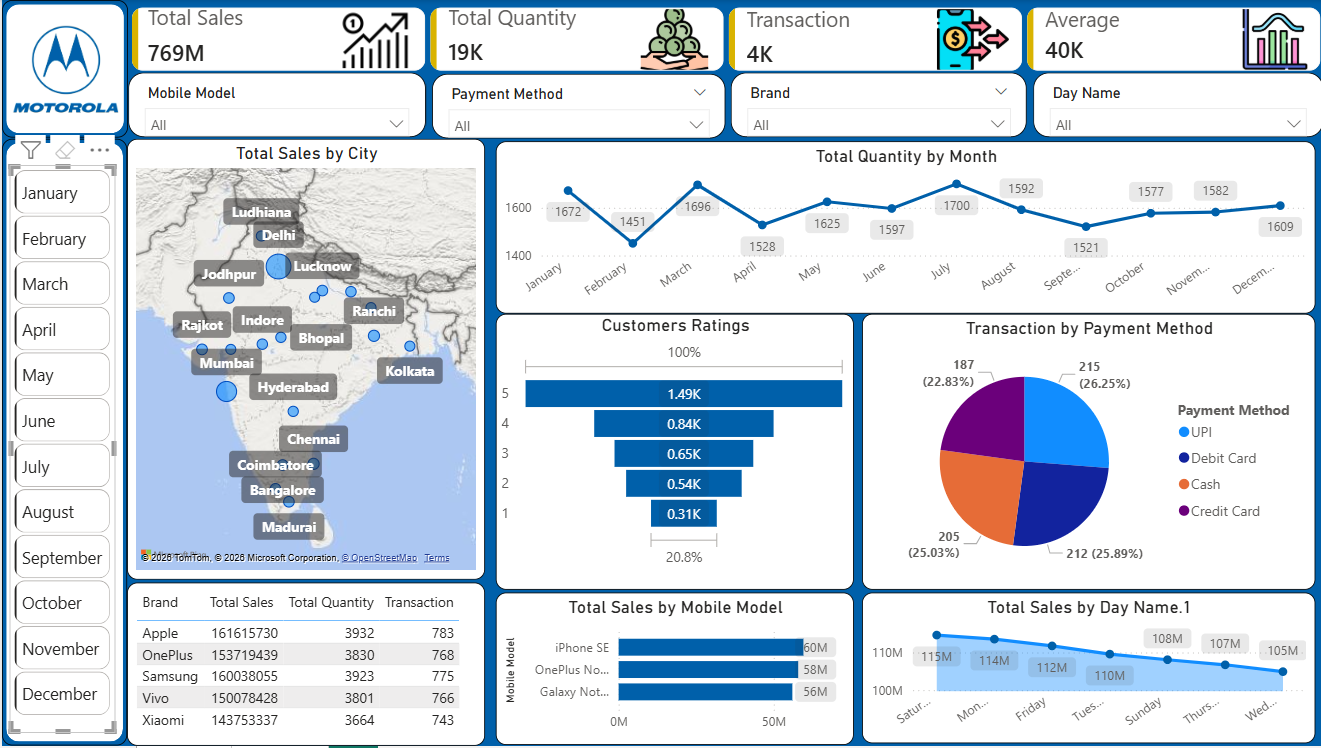

What the dashboard file says about the page in this screenshot:
{"tool":"powerbi","page":{"name":"Page 2","canvas":[1280,720],"ordinal":1},"visuals":[{"type":"shape","box":[0,0,121.9,132.7],"z":0},{"type":"image","box":[9.7,14.5,103.8,105],"z":1000},{"type":"shape","box":[0,134.5,120.8,585.9],"z":2000},{"type":"advancedSlicerVisual","fields":{"Values":["Sales_Data.Date.Variation.Date Hierarchy.Month"]},"box":[6.9,159.2,102.9,547.5],"z":3000},{"type":"cardVisual","fields":{"Data":["Sales_Data.Total Sales","Sales_Data.Total Quantity","Sales_Data.Transaction","Sales_Data.Average"]},"box":[121,2,1158.2,71.2],"z":4000},{"type":"map","fields":{"Category":["Sales_Data.City"],"Size":["Sales_Data.Total Sales"]},"box":[120.8,134.5,345.8,425.4],"z":5000},{"type":"lineChart","fields":{"Y":["Sales_Data.Total Quantity"],"Category":["Sales_Data.Date.Variation.Date Hierarchy.Month","Sales_Data.Date.Variation.Date Hierarchy.Day"]},"box":[476.5,136.3,791.4,166.5],"z":6000},{"type":"clusteredBarChart","fields":{"Category":["Sales_Data.Mobile Model"],"Y":["Sales_Data.Total Sales"]},"box":[476.2,572.2,345.8,146.8],"z":7000},{"type":"pieChart","fields":{"Category":["Sales_Data.Payment Method"],"Y":["Sales_Data.Transaction"]},"box":[830.2,303.3,437.7,266.2],"z":8000},{"type":"funnel","title":"Customers Ratings","fields":{"Y":["CountNonNull(Sales_Data.Customer Ratings)"],"Category":["Sales_Data.Customer Ratings"]},"box":[476.2,303.3,345.8,266.2],"z":9000},{"type":"areaChart","fields":{"Category":["Sales_Data.Day Name.1"],"Y":["Sales_Data.Total Sales"]},"box":[830.2,572.2,437.7,145.5],"z":10000},{"type":"tableEx","fields":{"Values":["Sales_Data.Brand","Sales_Data.Total Sales","Sales_Data.Total Quantity","Sales_Data.Transaction"]},"box":[120.8,562.2,345.8,157.8],"z":11000},{"type":"slicer","fields":{"Values":["Sales_Data.Mobile Model"]},"box":[121.9,70,287.1,62.7],"z":12000},{"type":"slicer","fields":{"Values":["Sales_Data.Payment Method"]},"box":[415,71.2,283.5,62.7],"z":13000},{"type":"slicer","fields":{"Values":["Sales_Data.Brand"]},"box":[703.4,70,285.9,62.7],"z":14000},{"type":"slicer","fields":{"Values":["Sales_Data.Day Name.1"]},"box":[995.3,70,279.9,62.7],"z":15000}]}

Visuals, with their boxes in screenshot pixels (x1, y1, x2, y2), scaled from the page's 1280x720 canvas onto the 1321x748 screenshot:
shape: crop(0, 0, 126, 138)
image: crop(10, 15, 117, 124)
shape: crop(0, 140, 125, 747)
advancedSlicerVisual - Sales_Data.Date.Variation.Date Hierarchy.Month: crop(7, 165, 113, 734)
cardVisual - Sales_Data.Total Sales x Sales_Data.Total Quantity: crop(125, 2, 1320, 76)
map - Sales_Data.City x Sales_Data.Total Sales: crop(125, 140, 482, 582)
lineChart - Sales_Data.Total Quantity x Sales_Data.Date.Variation.Date Hierarchy.Month: crop(492, 142, 1309, 315)
clusteredBarChart - Sales_Data.Mobile Model x Sales_Data.Total Sales: crop(491, 594, 848, 747)
pieChart - Sales_Data.Payment Method x Sales_Data.Transaction: crop(857, 315, 1309, 592)
"Customers Ratings" funnel: crop(491, 315, 848, 592)
areaChart - Sales_Data.Day Name.1 x Sales_Data.Total Sales: crop(857, 594, 1309, 746)
tableEx - Sales_Data.Brand x Sales_Data.Total Sales: crop(125, 584, 482, 747)
slicer - Sales_Data.Mobile Model: crop(126, 73, 422, 138)
slicer - Sales_Data.Payment Method: crop(428, 74, 721, 139)
slicer - Sales_Data.Brand: crop(726, 73, 1021, 138)
slicer - Sales_Data.Day Name.1: crop(1027, 73, 1316, 138)
